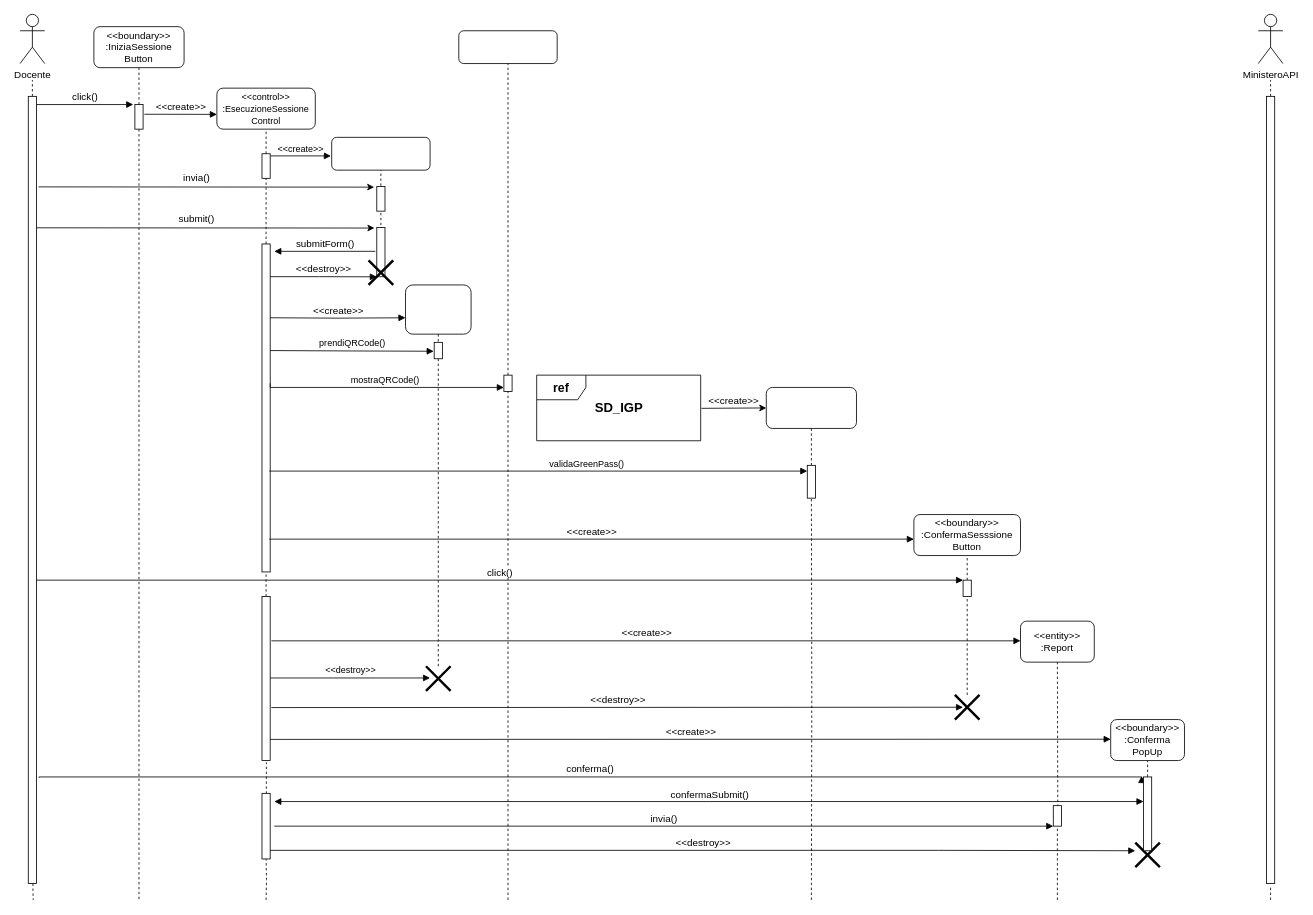
Some shapes in this 1313 by 915 pixel diagram are drawn without their labels. Here are the shapes that lost their labels. From the top down, the centre of each, then its label:
At point 507,47: "<<boundary>> :DispositivoDocente".
At point 380,153: "<<boundary>> :NumberOfStudentForm".
At point 438,309: "<<entity>> :Sessione di Validazione".
At point 810,407: "<<entity>> :Esito".
